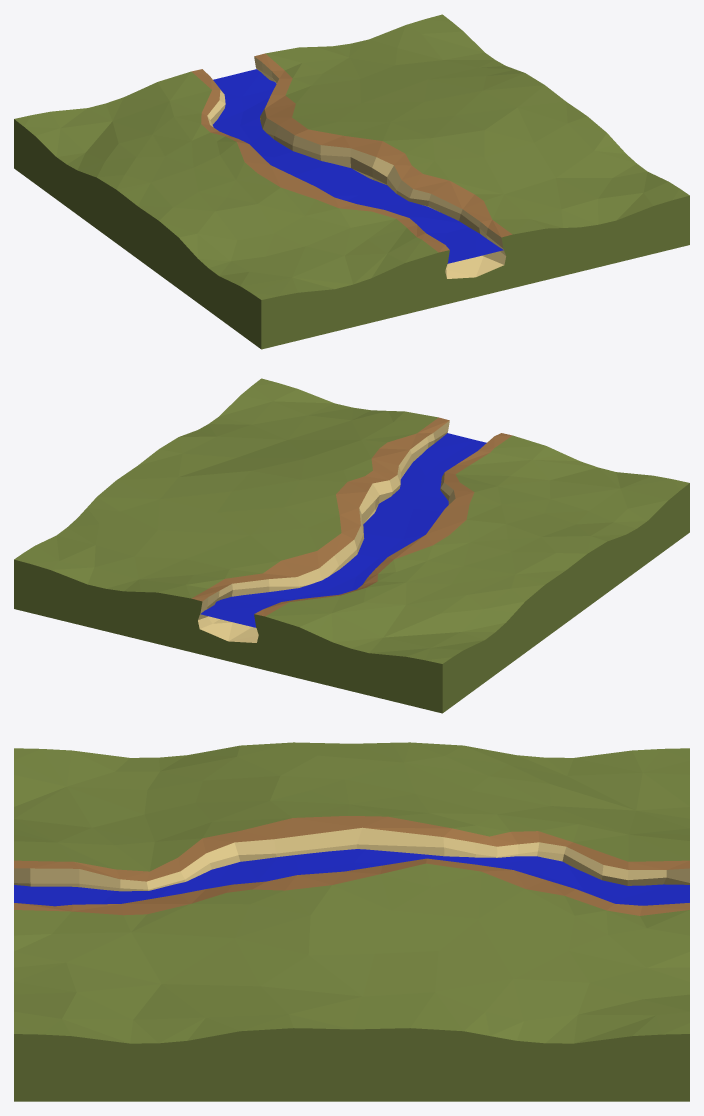
The model's file is Terrian_River_Straight_Flat-05.fbx.
3 renders of one model, top to bottom at view 1: azimuth 30°, elevation 25°; view 2: azimuth 150°, elevation 25°; view 3: azimuth 270°, elevation 25°, orthographic. The views are drawn at different scales.
Parts seen in each view (by area): view 1: Terrian_River_Straight_Flat-05; view 2: Terrian_River_Straight_Flat-05; view 3: Terrian_River_Straight_Flat-05.
Part boxes in pixels (bbox=[...]): Terrian_River_Straight_Flat-05: bbox=[14, 14, 689, 349]; Terrian_River_Straight_Flat-05: bbox=[14, 378, 689, 713]; Terrian_River_Straight_Flat-05: bbox=[14, 742, 689, 1101].
Bounding box in the file's own units: 3600 × 524 × 3600.
